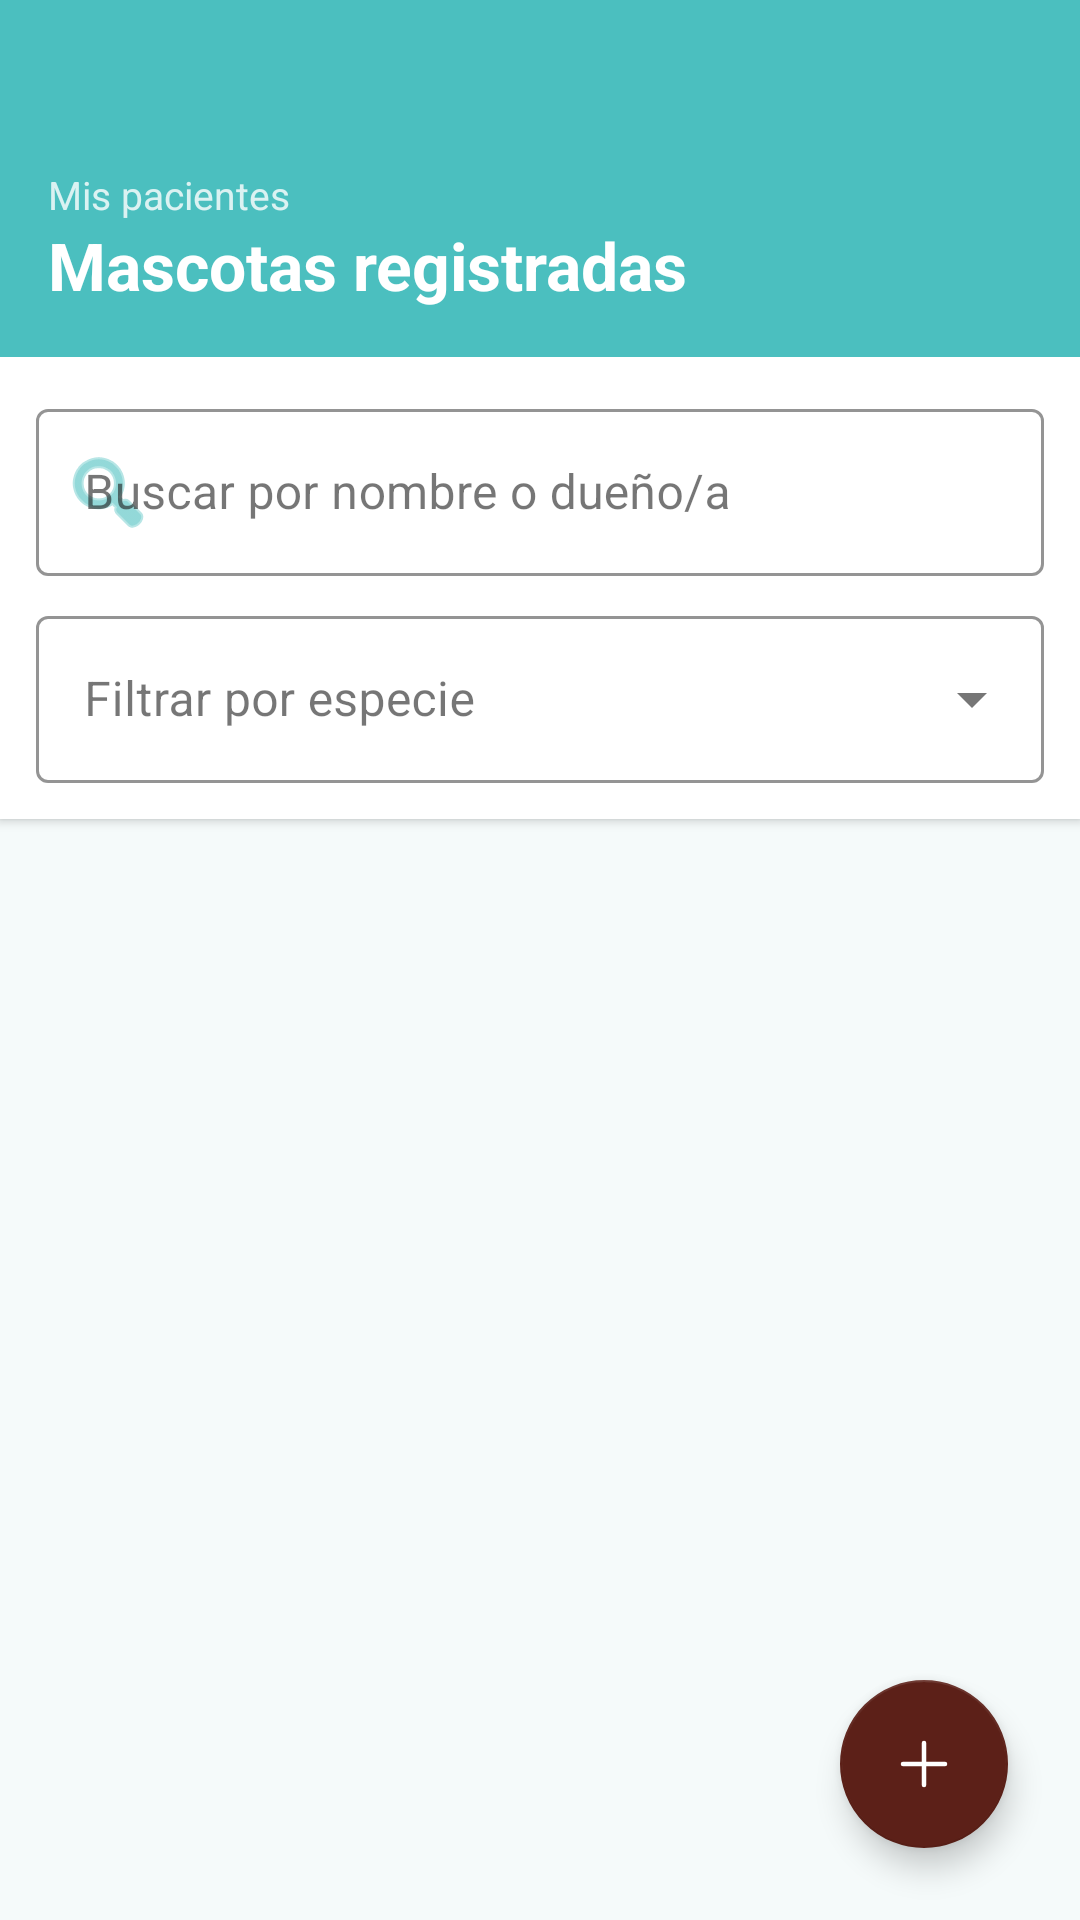

Point at icon controls on the screen. Image size 1080 × 1920, points as [x,y].
Añadir mascota: [924,1764]
